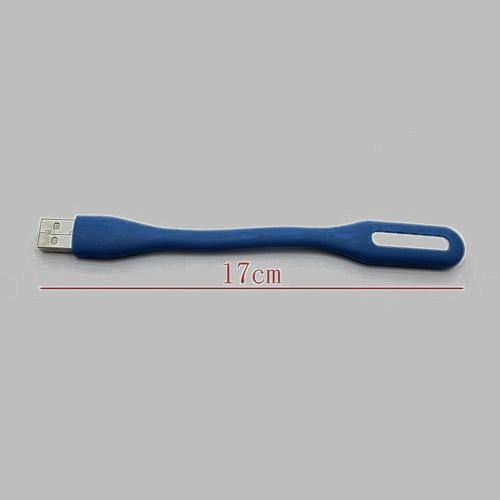lamp: (40, 196, 461, 297)
